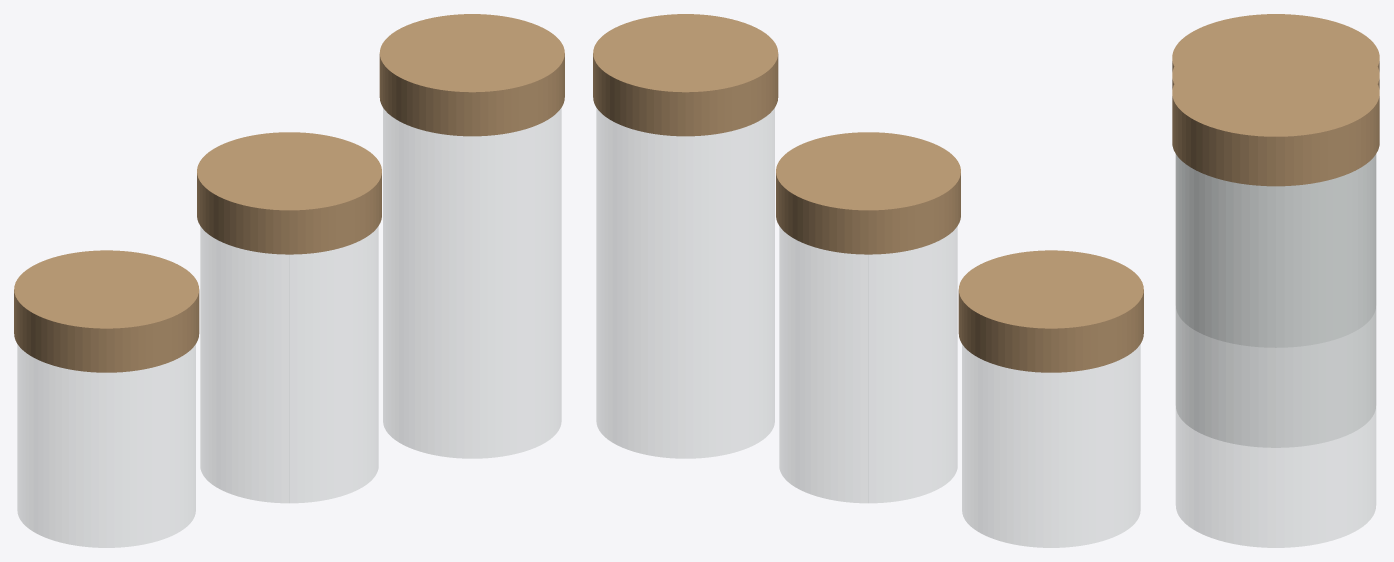
File: forradsburkar-glas-ek-3-pack.glb
3 views of the same model, side by side, from view 1: azimuth 30°, elevation 25°; view 2: azimuth 150°, elevation 25°; view 3: azimuth 270°, elevation 25° (orthographic). The views are drawn at different scales.
Visible parts, largest first — view 1: forradsburkar-glas-ek-3-pack-4, forradsburkar-glas-ek-3-pack-2, forradsburkar-glas-ek-3-pack-0, forradsburkar-glas-ek-3-pack-1, forradsburkar-glas-ek-3-pack-5, forradsburkar-glas-ek-3-pack-3; view 2: forradsburkar-glas-ek-3-pack-4, forradsburkar-glas-ek-3-pack-2, forradsburkar-glas-ek-3-pack-0, forradsburkar-glas-ek-3-pack-1, forradsburkar-glas-ek-3-pack-5, forradsburkar-glas-ek-3-pack-3; view 3: forradsburkar-glas-ek-3-pack-4, forradsburkar-glas-ek-3-pack-2, forradsburkar-glas-ek-3-pack-5, forradsburkar-glas-ek-3-pack-1, forradsburkar-glas-ek-3-pack-3.
Boxes of the visible parts, x1=… form: forradsburkar-glas-ek-3-pack-4: x1=383, y1=108, x2=561, y2=458; forradsburkar-glas-ek-3-pack-2: x1=200, y1=227, x2=378, y2=502; forradsburkar-glas-ek-3-pack-0: x1=17, y1=345, x2=195, y2=547; forradsburkar-glas-ek-3-pack-1: x1=14, y1=250, x2=199, y2=372; forradsburkar-glas-ek-3-pack-5: x1=379, y1=14, x2=564, y2=136; forradsburkar-glas-ek-3-pack-3: x1=197, y1=132, x2=381, y2=254; forradsburkar-glas-ek-3-pack-4: x1=596, y1=108, x2=774, y2=458; forradsburkar-glas-ek-3-pack-2: x1=779, y1=227, x2=957, y2=502; forradsburkar-glas-ek-3-pack-0: x1=962, y1=345, x2=1140, y2=547; forradsburkar-glas-ek-3-pack-1: x1=958, y1=250, x2=1143, y2=372; forradsburkar-glas-ek-3-pack-5: x1=593, y1=14, x2=778, y2=136; forradsburkar-glas-ek-3-pack-3: x1=776, y1=132, x2=960, y2=254; forradsburkar-glas-ek-3-pack-4: x1=1176, y1=155, x2=1375, y2=547; forradsburkar-glas-ek-3-pack-2: x1=1176, y1=155, x2=1375, y2=447; forradsburkar-glas-ek-3-pack-5: x1=1172, y1=49, x2=1379, y2=186; forradsburkar-glas-ek-3-pack-1: x1=1172, y1=14, x2=1379, y2=71; forradsburkar-glas-ek-3-pack-3: x1=1172, y1=31, x2=1379, y2=89.
Size of the model in its own units: 0.374 by 0.25 by 0.114.
